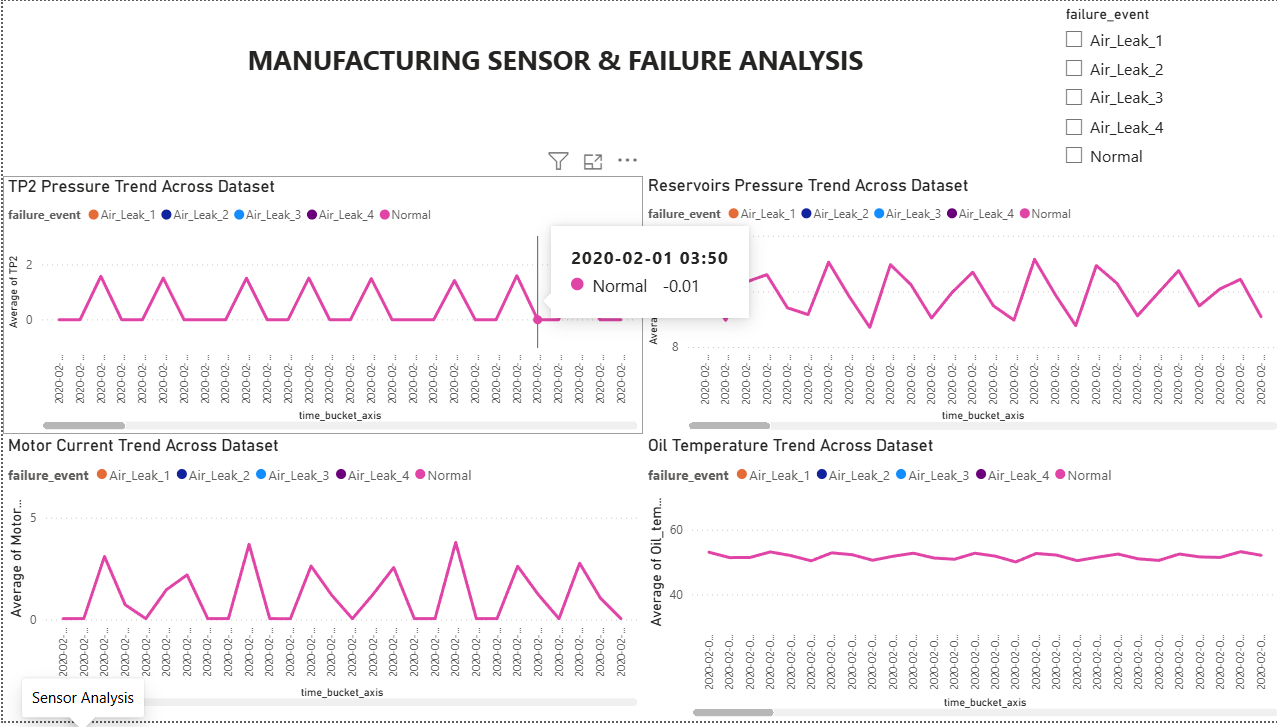

The dashboard page shown, as its layout file describes it:
{"tool":"powerbi","page":{"name":"Sensor Analysis","canvas":[1280,720],"ordinal":1},"visuals":[{"type":"lineChart","title":"TP2 Pressure Trend Across Dataset","fields":{"Y":["Avg(sensor_trends.TP2)"],"Series":["sensor_trends.failure_event"],"Category":["sensor_trends.time_bucket_axis"]},"box":[0,175,639.7,258.8],"z":0},{"type":"lineChart","title":"Reservoirs Pressure Trend Across Dataset","fields":{"Series":["sensor_trends.failure_event"],"Category":["sensor_trends.time_bucket_axis"],"Y":["Avg(sensor_trends.Reservoirs)"]},"box":[639.7,173.5,639.7,260.3],"z":1},{"type":"lineChart","title":"Motor Current Trend Across Dataset","fields":{"Series":["sensor_trends.failure_event"],"Category":["sensor_trends.time_bucket_axis"],"Y":["Avg(sensor_trends.Motor_current)"]},"box":[0,433.8,639.7,276.5],"z":2},{"type":"lineChart","title":"Oil Temperature Trend Across Dataset","fields":{"Series":["sensor_trends.failure_event"],"Category":["sensor_trends.time_bucket_axis"],"Y":["Avg(sensor_trends.Oil_temperature)"]},"box":[639.7,433.8,639.7,286.8],"z":3},{"type":"slicer","fields":{"Values":["sensor_trends.failure_event"]},"box":[1050,0,229.4,173.5],"z":4},{"type":"textbox","box":[145.6,0,814.7,114.7],"z":5}]}

Visuals, with their boxes in screenshot pixels (x1, y1, x2, y2), scaled from the page's 1280x720 canvas onto the 1277x727 screenshot:
"TP2 Pressure Trend Across Dataset" lineChart: (0, 177, 638, 438)
"Reservoirs Pressure Trend Across Dataset" lineChart: (638, 175, 1276, 438)
"Motor Current Trend Across Dataset" lineChart: (0, 438, 638, 717)
"Oil Temperature Trend Across Dataset" lineChart: (638, 438, 1276, 726)
slicer - sensor_trends.failure_event: (1048, 0, 1276, 175)
textbox: (145, 0, 958, 116)
